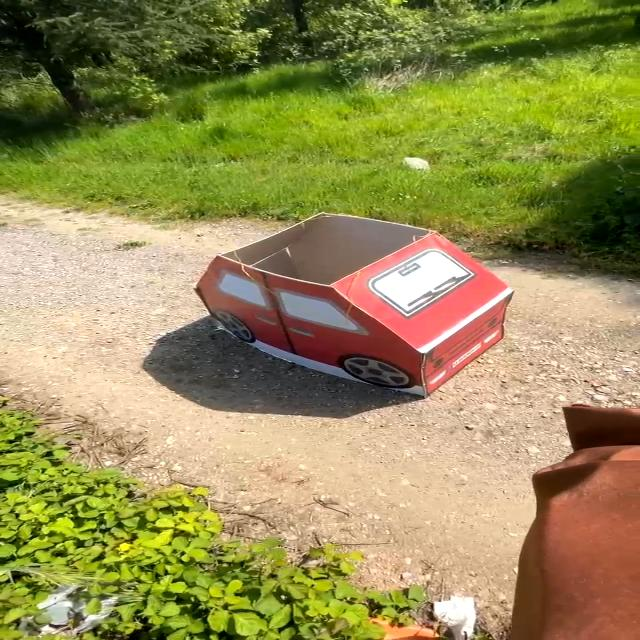red_car: (176, 200, 542, 418)
